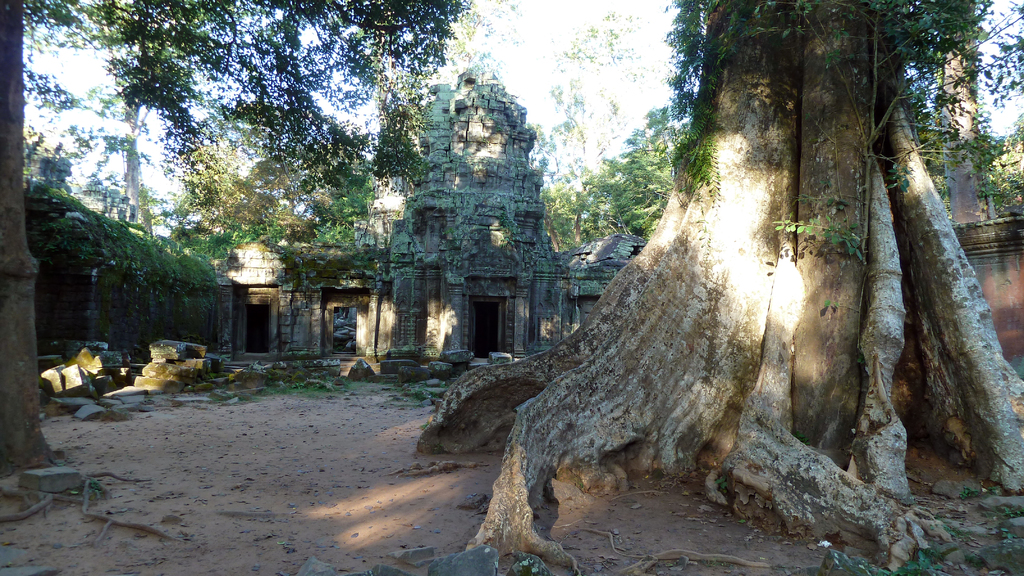Tree: (442, 11, 1023, 563), (0, 0, 476, 501), (542, 5, 648, 231), (574, 103, 692, 240), (167, 128, 277, 229)
